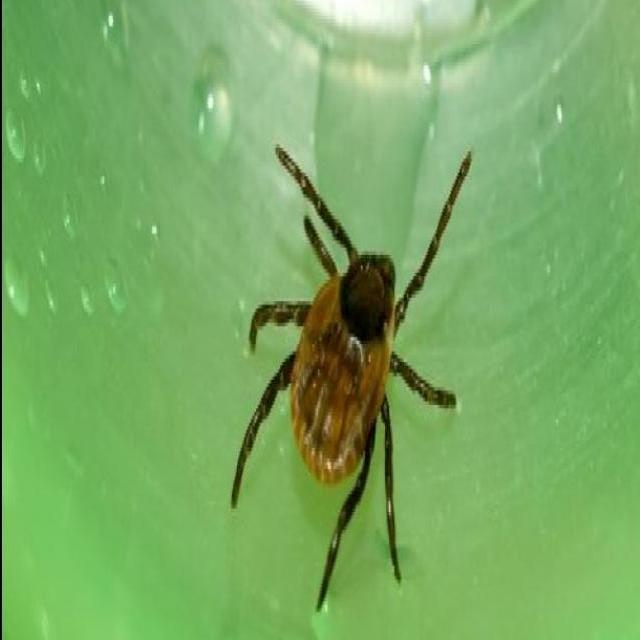Rhipicephalus Sanguineus-F: (232, 148, 468, 612)
